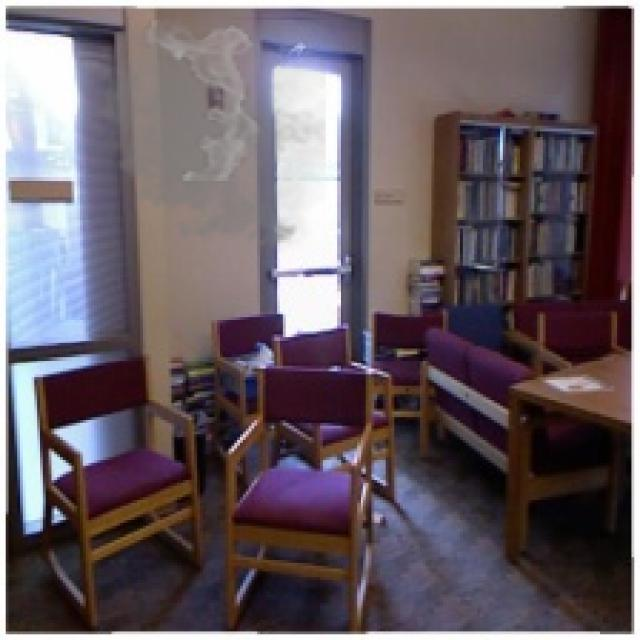smoke: (83, 17, 326, 254)
